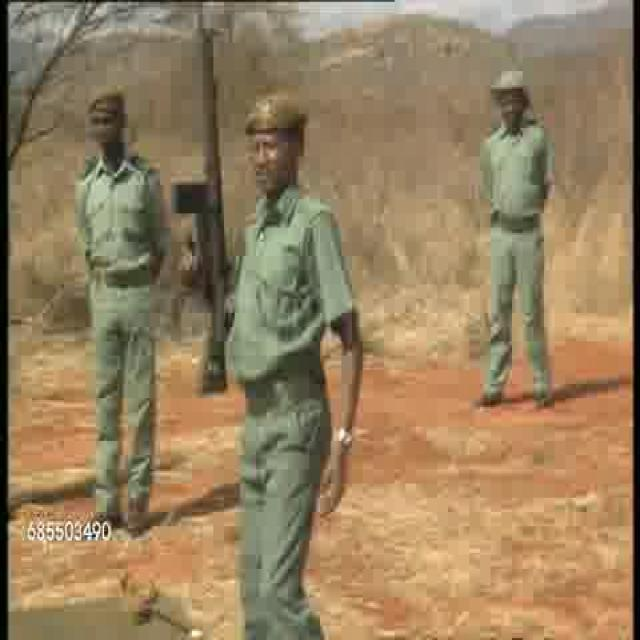poacher: (218, 31, 374, 630), (458, 53, 590, 424), (64, 89, 171, 546)
weapon: (193, 27, 232, 390)
